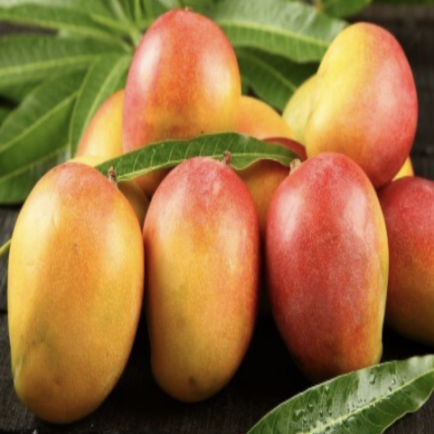mango: (3, 141, 152, 416), (257, 127, 399, 404), (138, 161, 273, 406), (112, 0, 255, 193)
